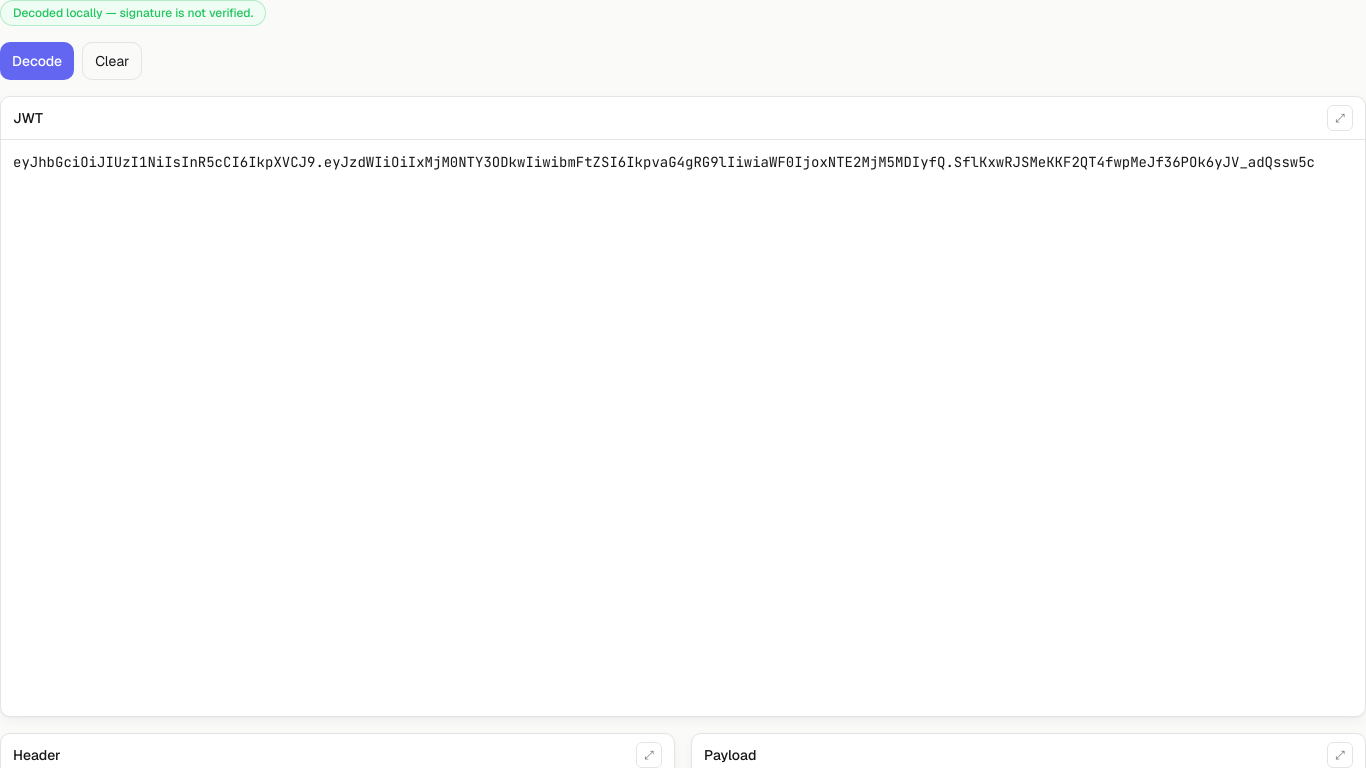
it: JwtTool › shows an error for invalid JWT input
The width and height of the screenshot is (1366, 768).
Clear the text box named "jwt": (683, 428) x1=1 y1=140 x2=1365 y2=716
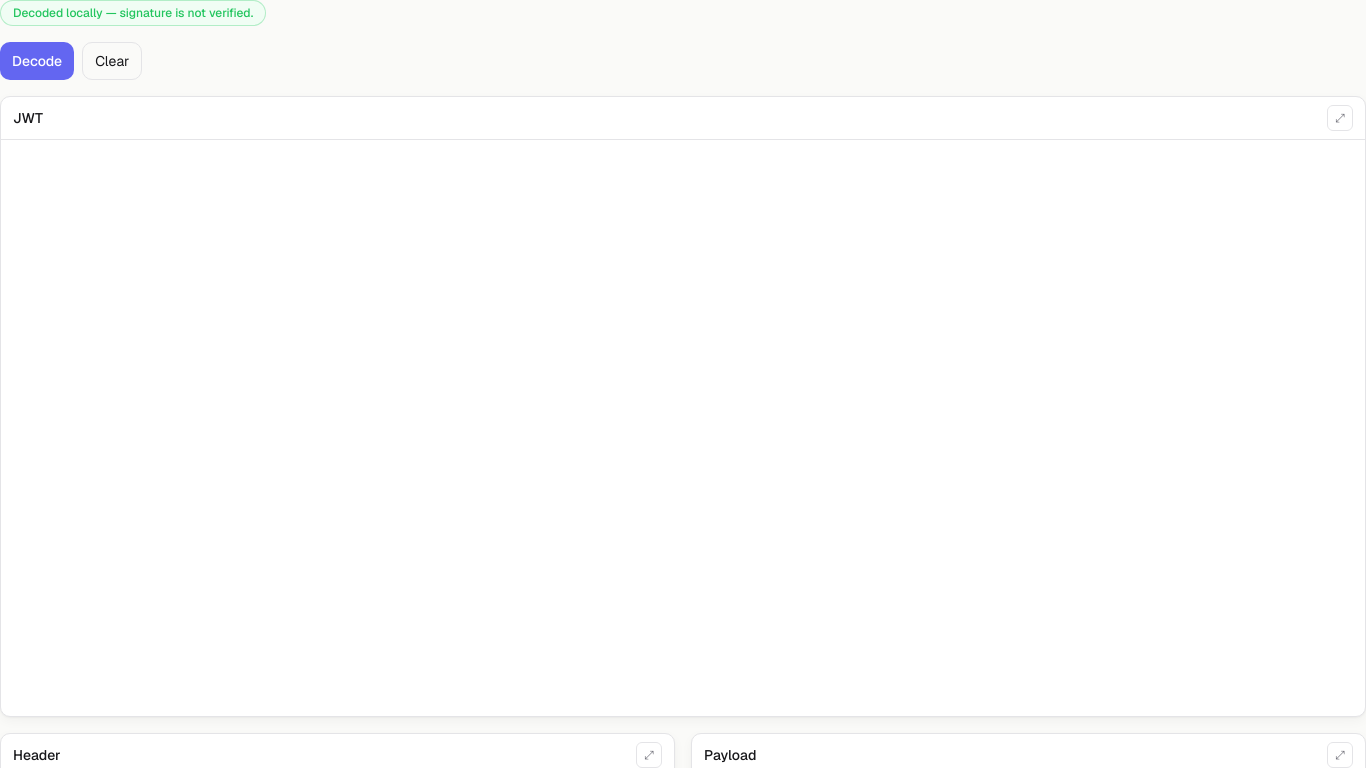
Type keys "not-a-jwt"
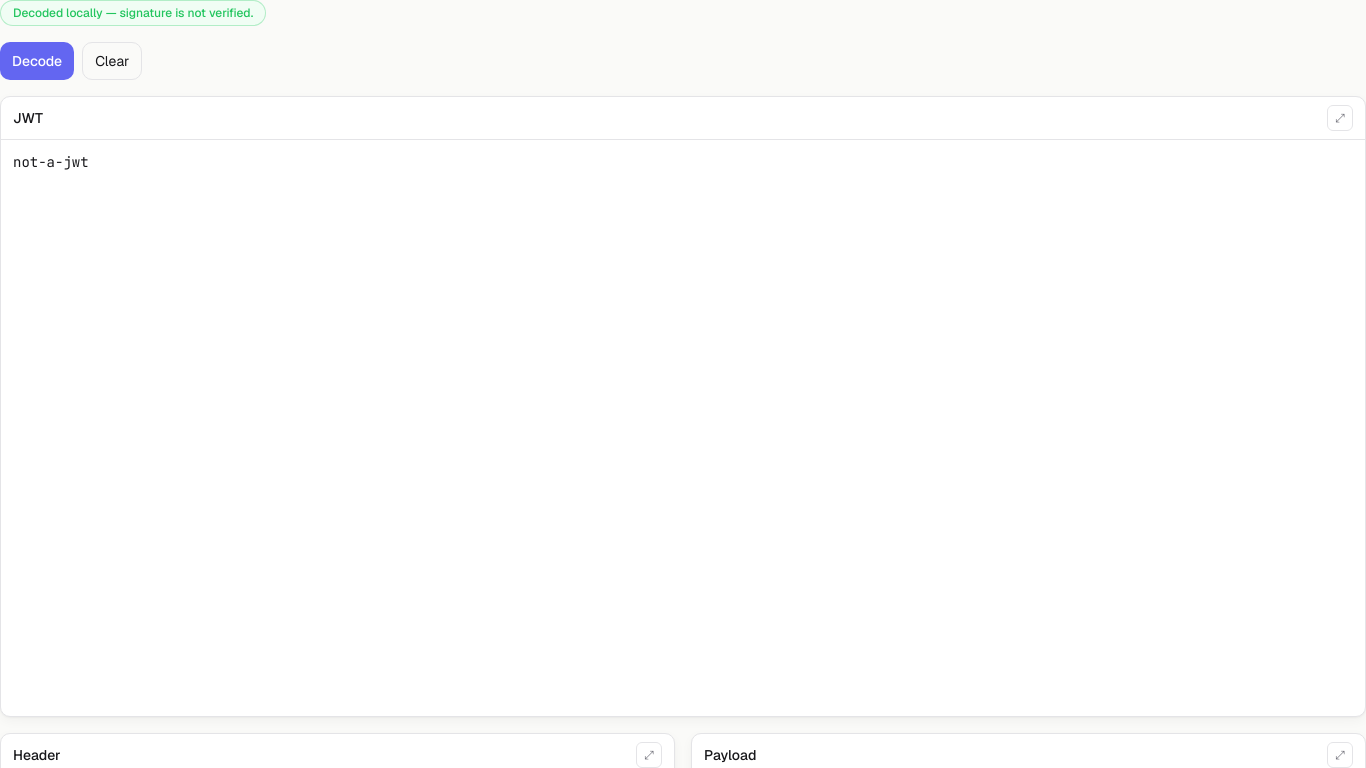
Click the button "Decode": (37, 61) x1=0 y1=42 x2=74 y2=80
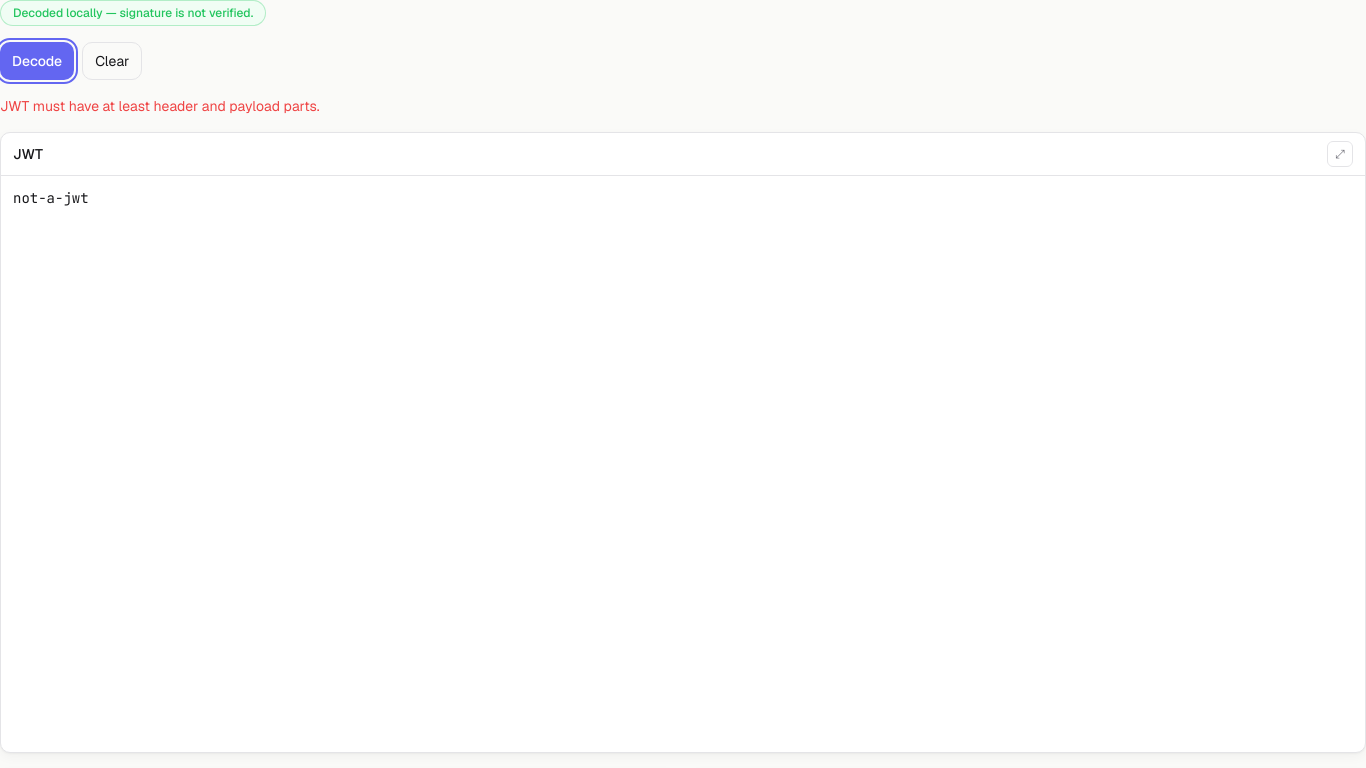
Check: the message "JWT must have at least header and payload parts." is shown, box x1=0 y1=97 x2=320 y2=115
